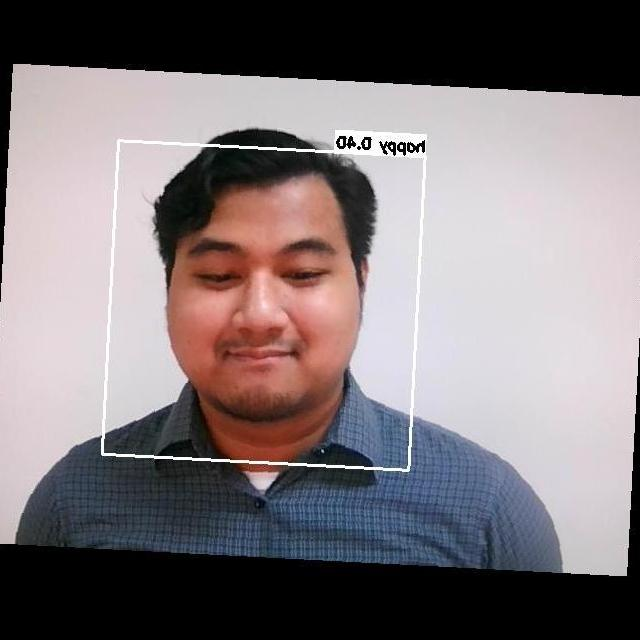Happy: (169, 222, 357, 395)
